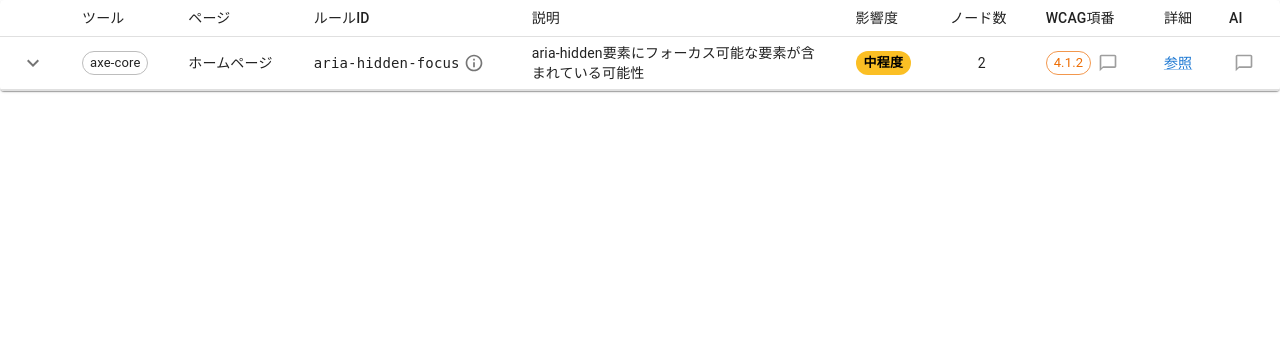
Test: IncompleteTable › NodeDetails展開機能 › 展開ボタンをクリックするとノード情報が表示される
Expected: the text "<div aria-hidden=\"true\">内容</div>" is not shown
# 展開ボタンをクリック
Click the button named "ノード情報を展開" at (33, 63), box top-left (16, 46), bottom-right (50, 80)
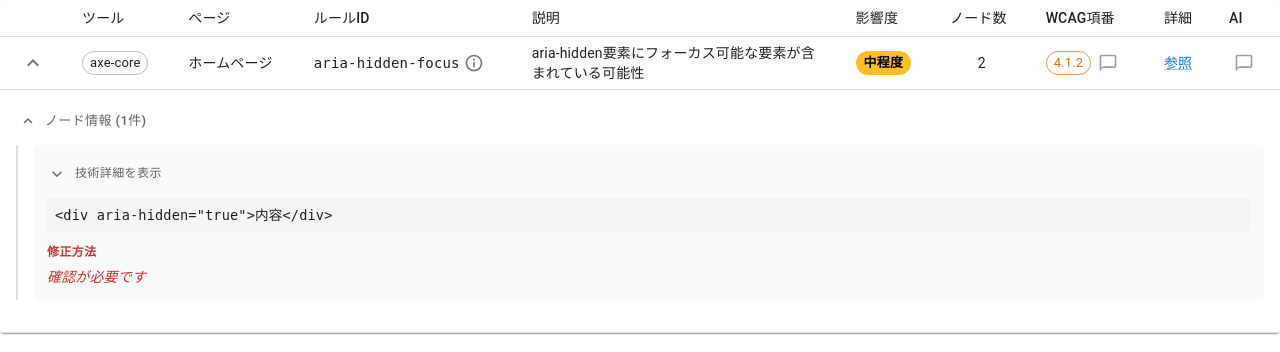
Now the text "<div aria-hidden=\"true\">内容</div>" is shown, box top-left (47, 198), bottom-right (1251, 233)
